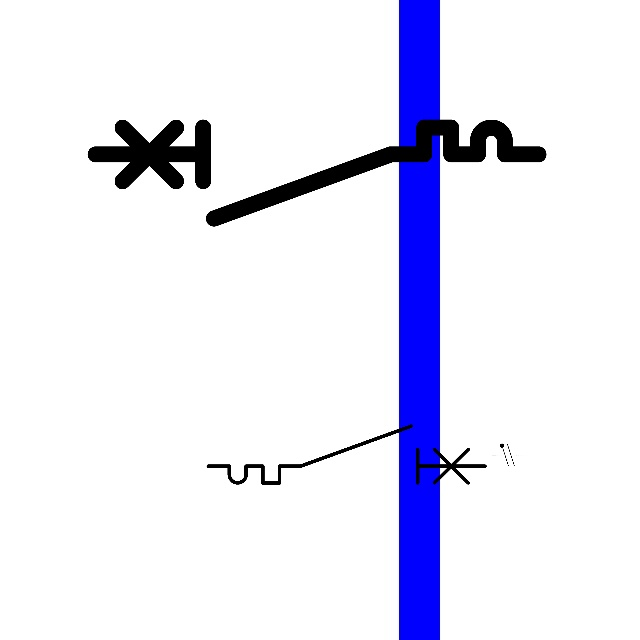interruptor_termomagnetico: (84, 116, 550, 230), (201, 419, 492, 490)
